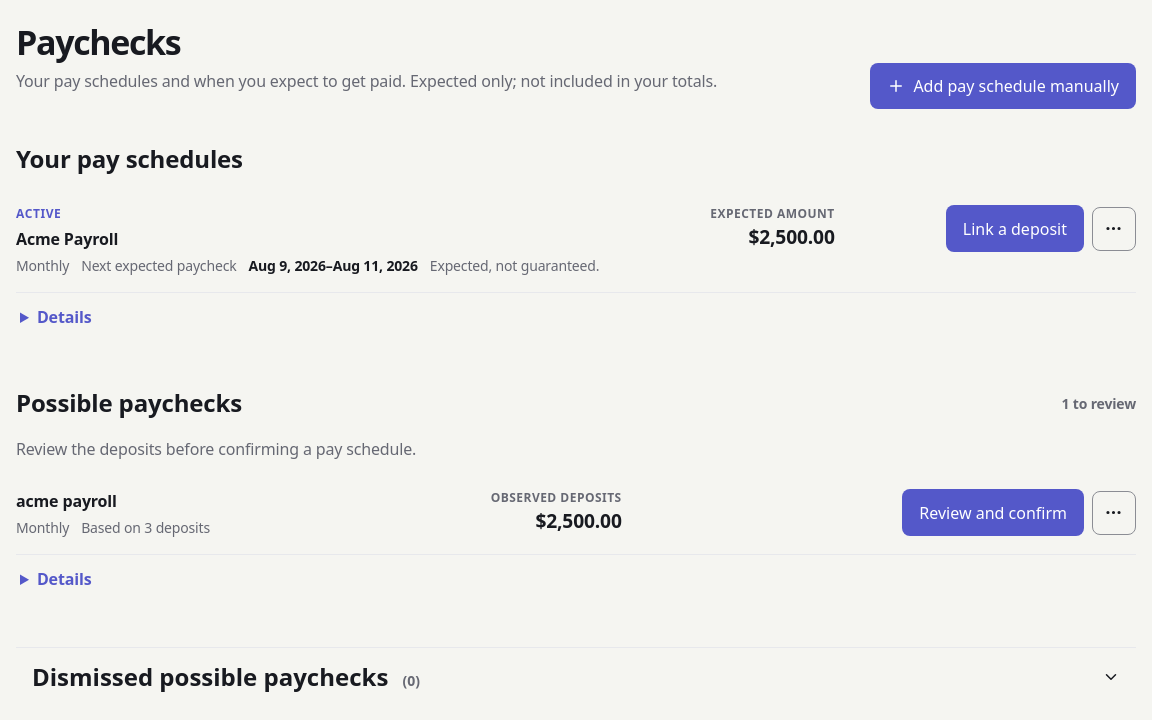
it: Paychecks page › retains end confirmation when a stale refresh keeps the same profile card
This screenshot has width=1152, height=720.
Check: the heading "Your pay schedules" is shown, box [16,141,243,177]
Click the heading named "Details for Acme Payroll" at (64, 317), box [37,306,91,328]
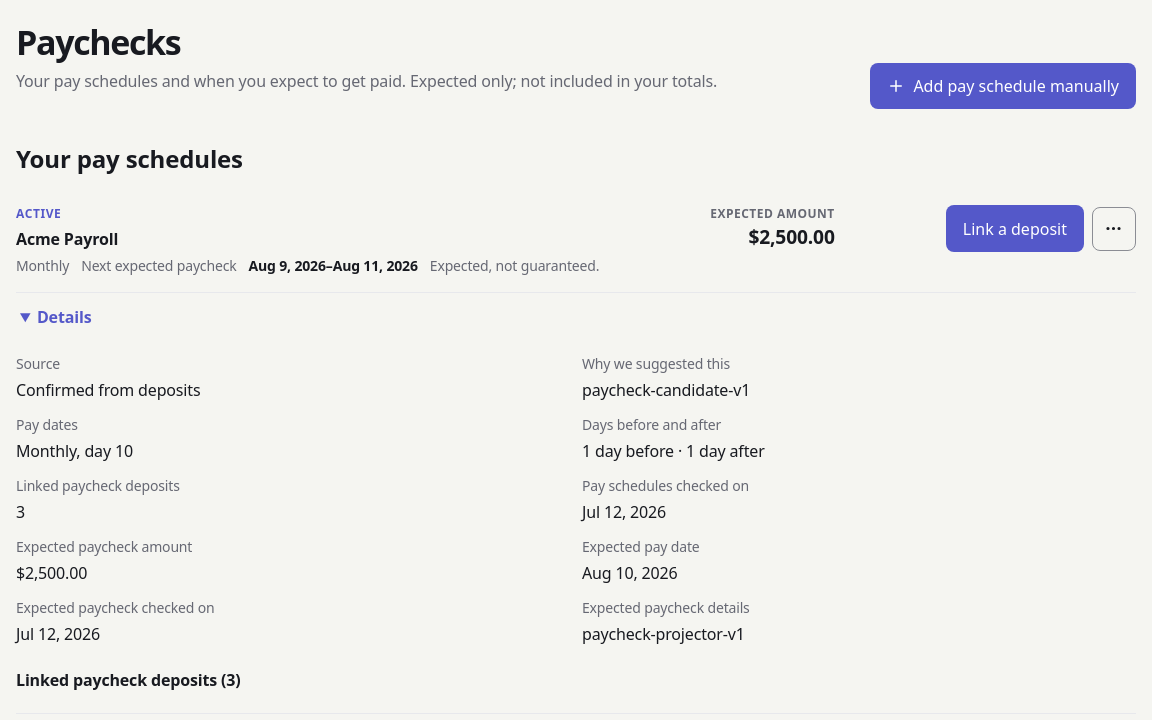
Click the button named "Actions for Acme Payroll" at (1114, 229), box [1092,207,1136,251]
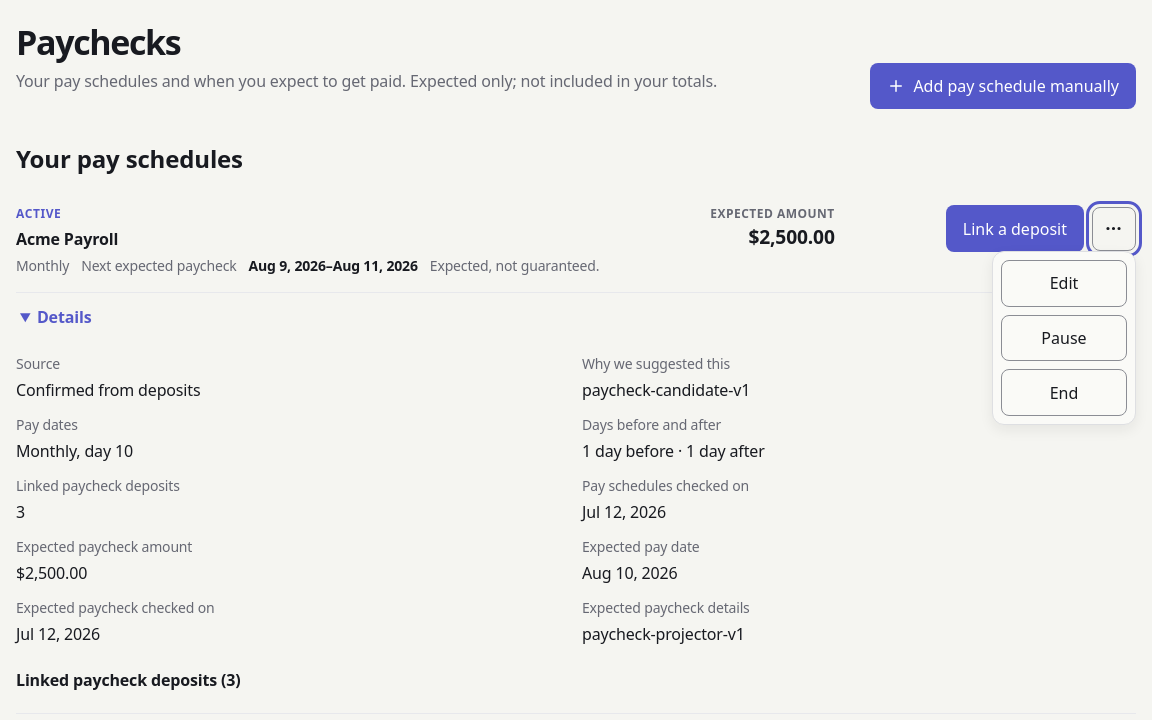
Click the button with aria-label "End Acme Payroll" at (1064, 393), box [1001,369,1127,416]
(page scrolled)
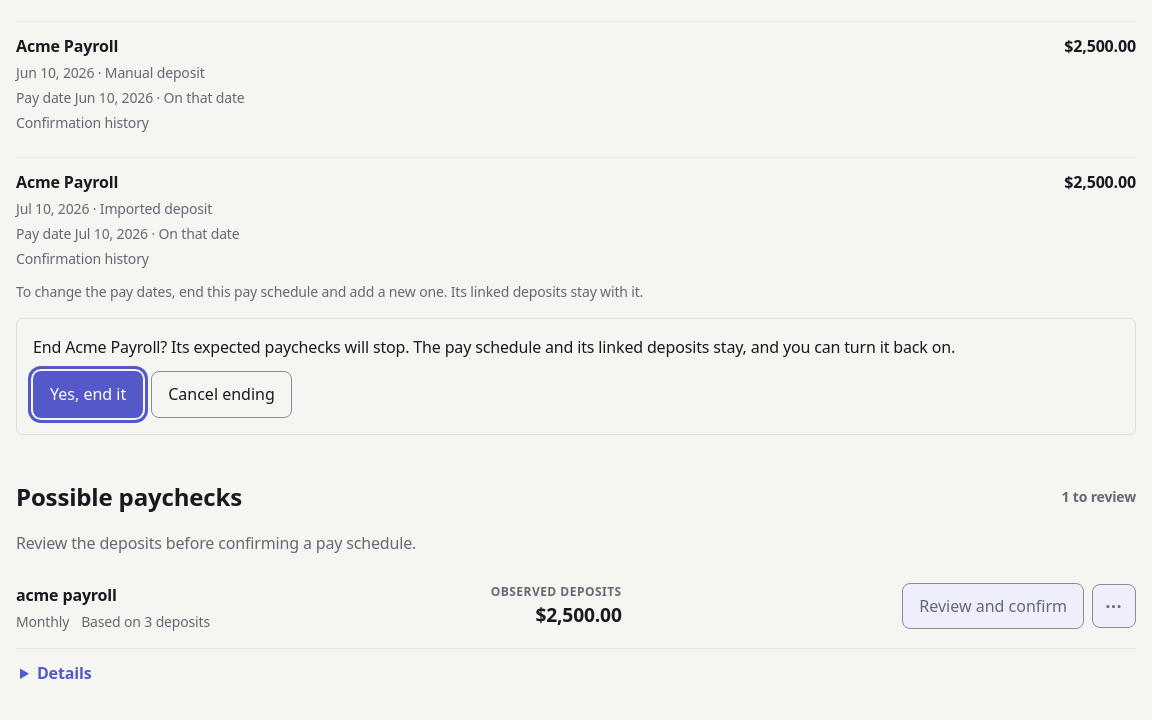
Click the button "Yes, end it" at (88, 394), box [33,371,143,418]
(page scrolled)
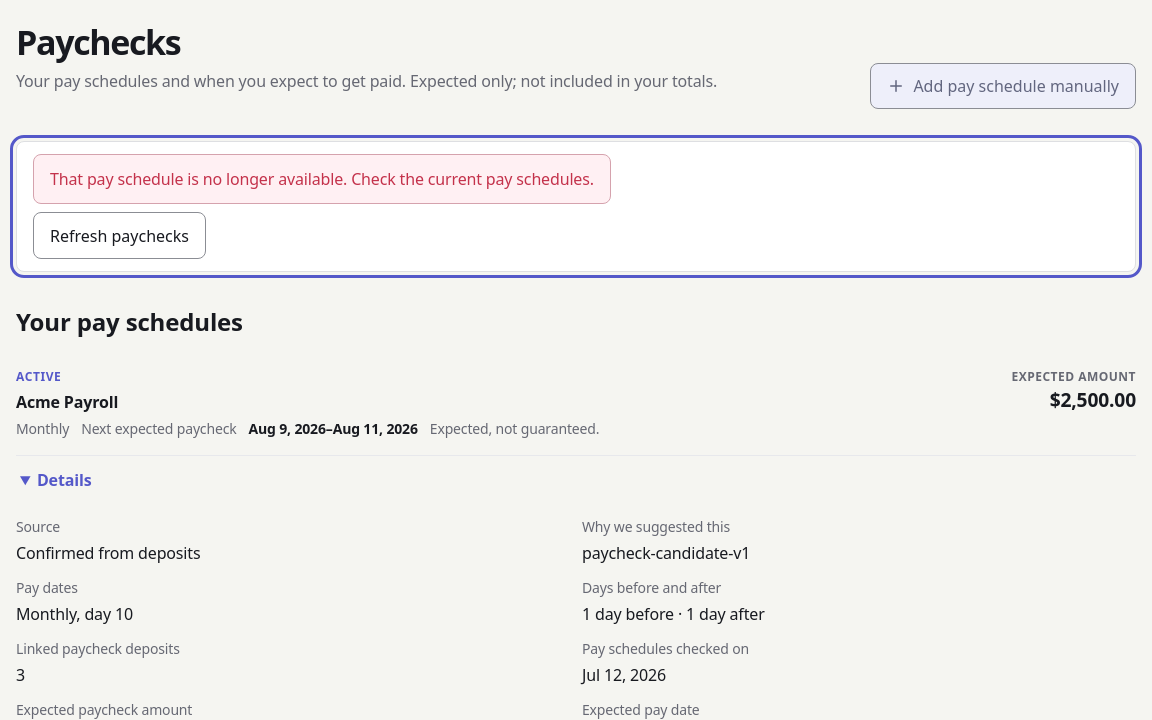
Check: the button "Add pay schedule manually" is disabled, box [870,63,1136,109]
Check: the message reads "That pay schedule is no longer available. Check the current pay schedules.", box [50,168,594,190]
